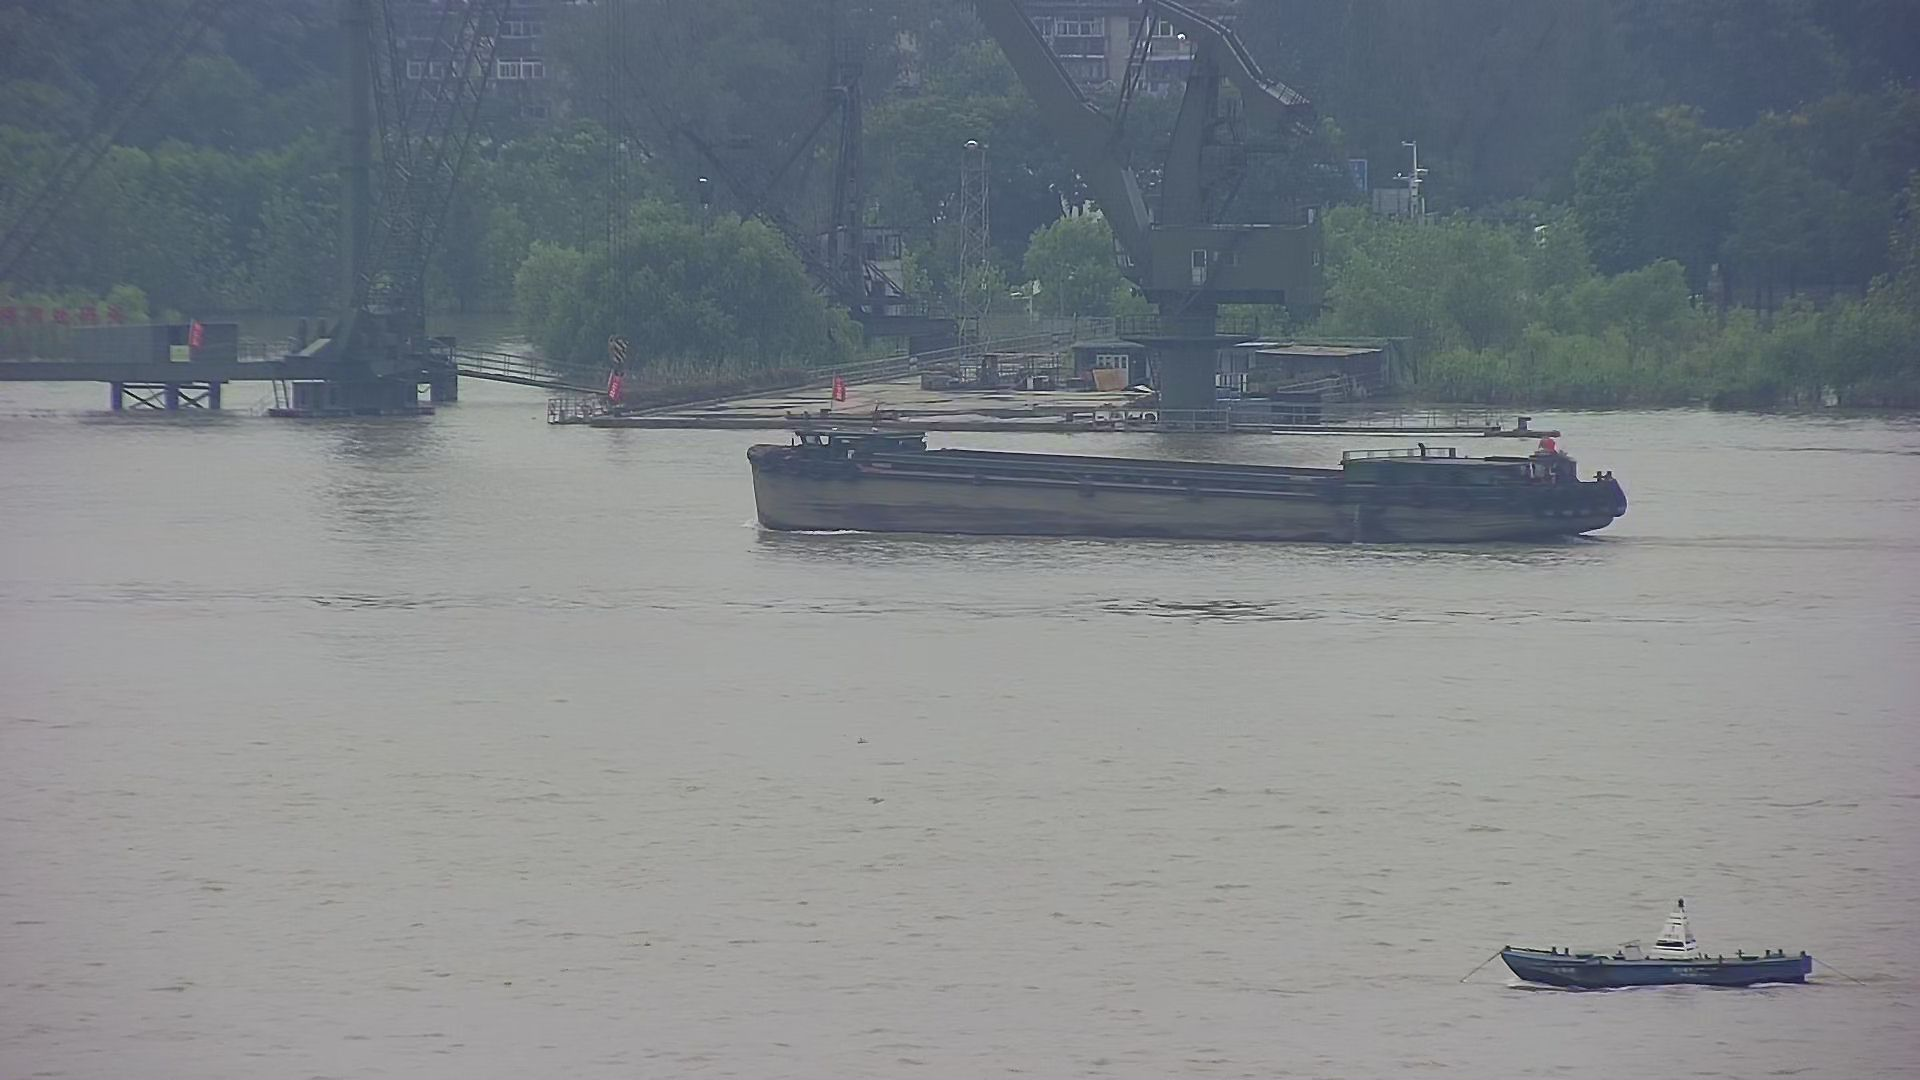boat: (1480, 877, 1840, 1000)
platform: (1, 1, 498, 425)
ship: (733, 417, 1643, 558)
